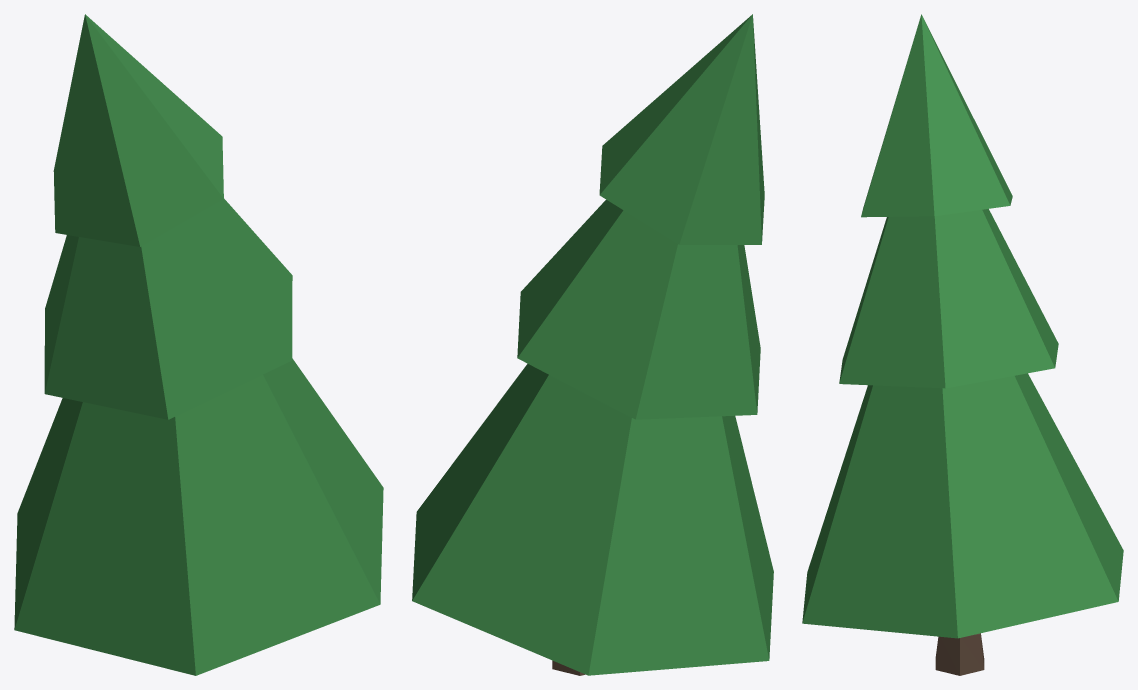
The model's file is Tree_Pine_01.FBX.
3 renders of one model, left to right at view 1: azimuth 30°, elevation 25°; view 2: azimuth 150°, elevation 25°; view 3: azimuth 270°, elevation 25°, orthographic. The views are drawn at different scales.
Visible parts, largest first — view 1: Tree_Pine_01; view 2: Tree_Pine_01; view 3: Tree_Pine_01.
Part boxes in pixels (left/top/right/bottom): Tree_Pine_01: left=14, top=14, right=383, bottom=675; Tree_Pine_01: left=412, top=14, right=773, bottom=675; Tree_Pine_01: left=802, top=14, right=1123, bottom=675.
Bounding box in the file's own units: 7584 × 13528 × 6729.
